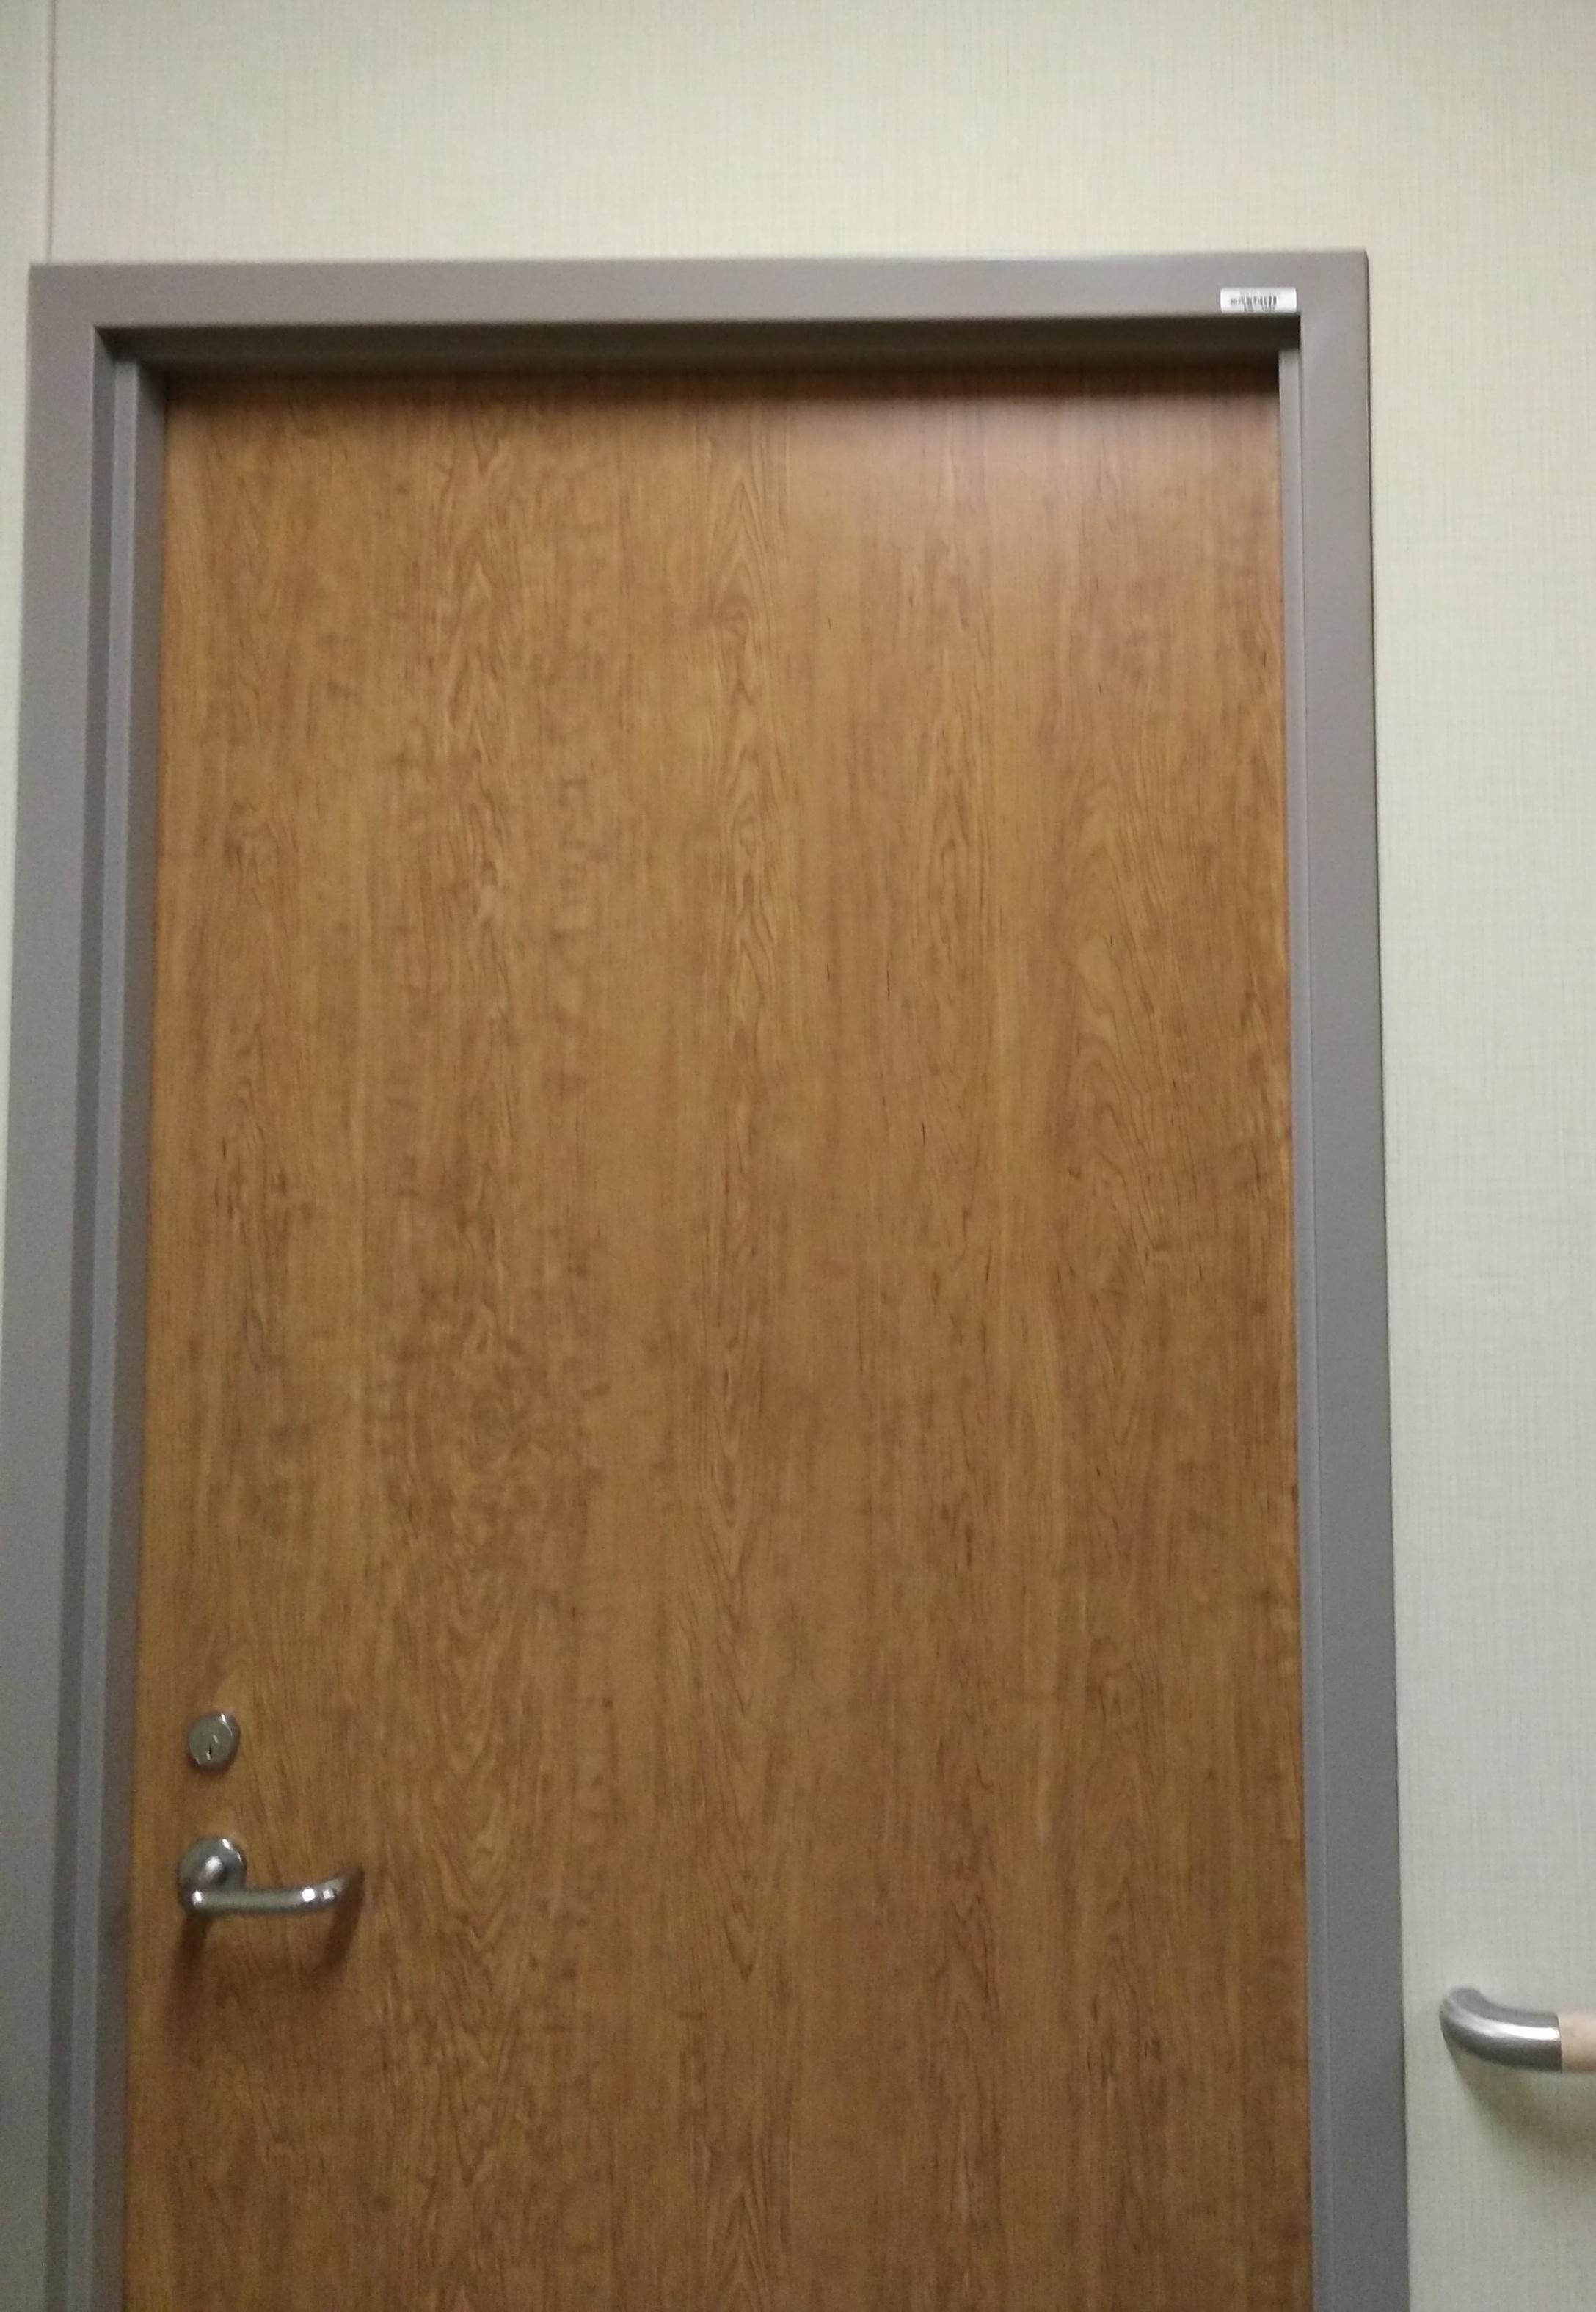door: (91, 327, 1343, 2296)
